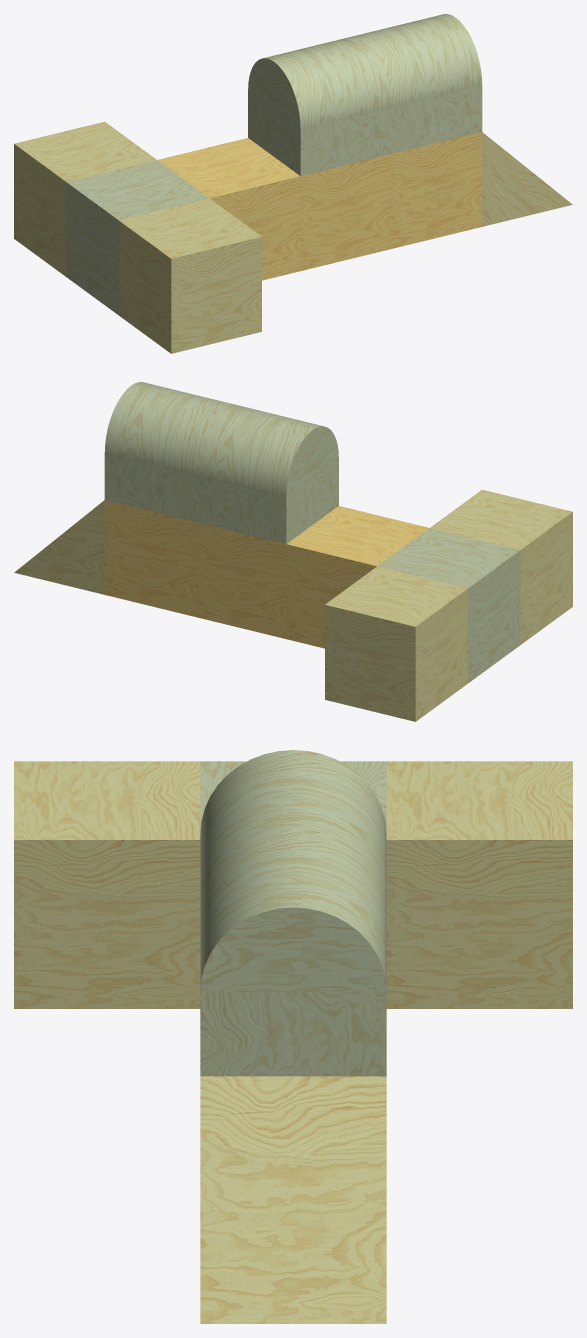
The picture shows the model from 3 angles, top to bottom: view 1: azimuth 30°, elevation 25°; view 2: azimuth 150°, elevation 25°; view 3: azimuth 270°, elevation 25°; orthographic projection. The views are drawn at different scales.
Bounding box in the file's own units: 250 × 100 × 150.
Materials: 11 (11 with a texture image).
